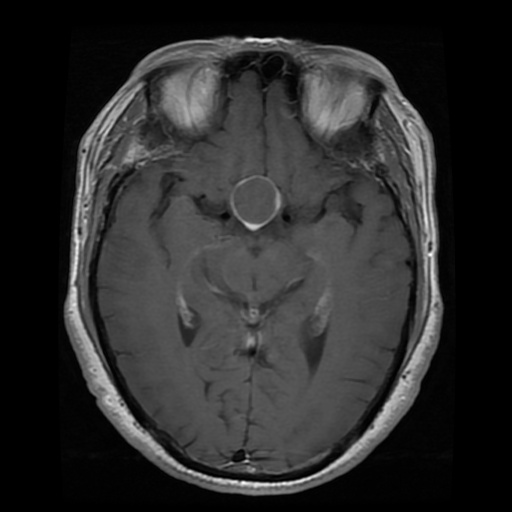pituitary: (229, 174, 280, 231)
